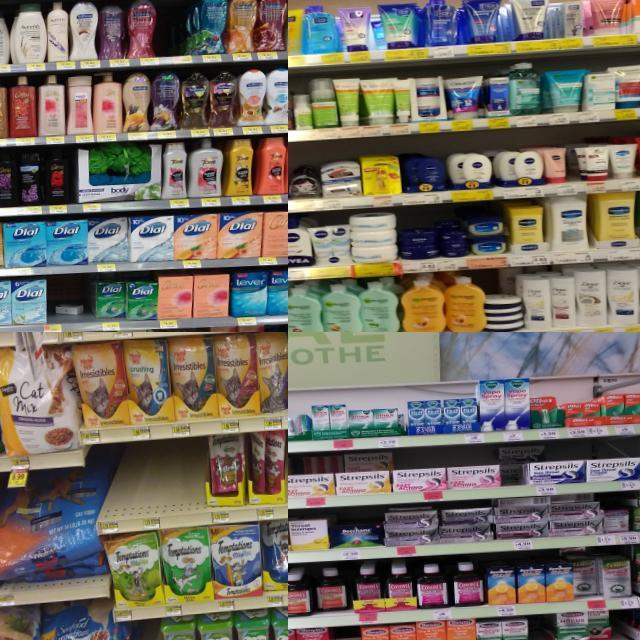empty: (122, 440, 208, 530), (156, 3, 184, 65), (48, 275, 66, 332), (611, 612, 631, 640), (529, 617, 552, 640), (141, 621, 163, 640)
